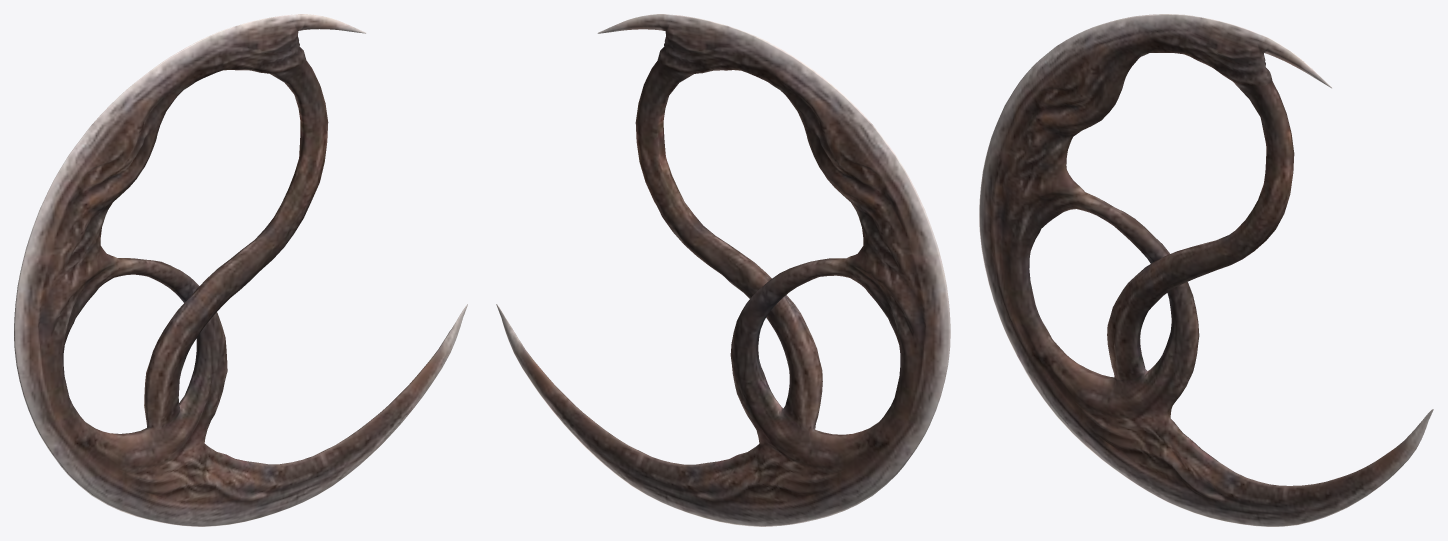
File: weapon-wp_a_1572.glb
3 views of the same model, side by side, from view 1: azimuth 30°, elevation 25°; view 2: azimuth 150°, elevation 25°; view 3: azimuth 330°, elevation 25° (orthographic).
Visible parts, largest first — view 1: wp_a_1572_mesh; view 2: wp_a_1572_mesh; view 3: wp_a_1572_mesh.
Part boxes in pixels (box(x1,y1,x2,y2)): wp_a_1572_mesh: box(14, 14, 467, 526); wp_a_1572_mesh: box(496, 14, 950, 526); wp_a_1572_mesh: box(979, 14, 1433, 526).
Bounding box in the file's own units: 0.595 × 0.6245 × 0.0462.
1 material, 1 textured.
